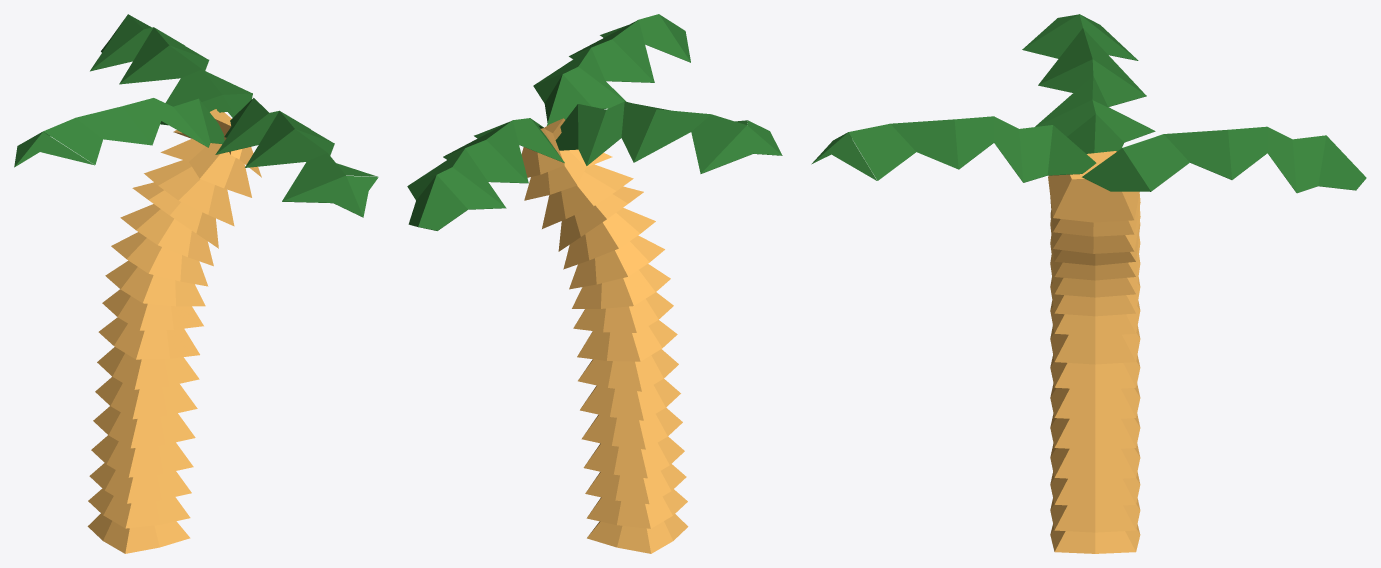
File: Palmetræ.fbx
3 renders of one model, left to right at view 1: azimuth 30°, elevation 25°; view 2: azimuth 150°, elevation 25°; view 3: azimuth 270°, elevation 25°, orthographic. The views are drawn at different scales.
Visible parts, largest first — view 1: Cube.013; view 2: Cube.013; view 3: Cube.013.
Boxes of the visible parts, x1=… form: Cube.013: x1=14, y1=14, x2=378, y2=553; Cube.013: x1=407, y1=14, x2=782, y2=553; Cube.013: x1=811, y1=14, x2=1366, y2=553.
Bounding box in the file's own units: 277 × 418 × 447.
